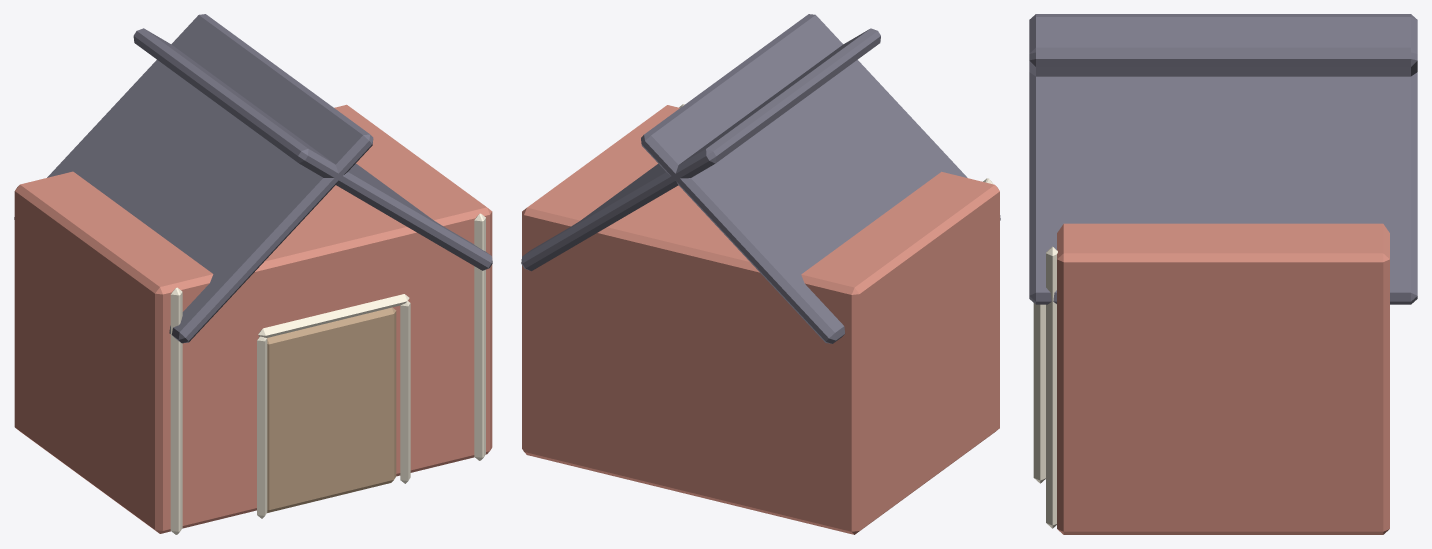
Rendered from barn.glb.
The picture shows the model from 3 angles, left to right: view 1: azimuth 30°, elevation 25°; view 2: azimuth 150°, elevation 25°; view 3: azimuth 270°, elevation 25°; orthographic projection. The views are drawn at different scales.
Visible parts, largest first — view 1: barn; view 2: barn; view 3: barn.
Part boxes in pixels (box(x1,y1,x2,y2)): barn: box(14, 14, 492, 534); barn: box(521, 14, 1000, 534); barn: box(1029, 14, 1417, 534).
Size of the model in its own units: 4 by 4.09 by 3.5.
